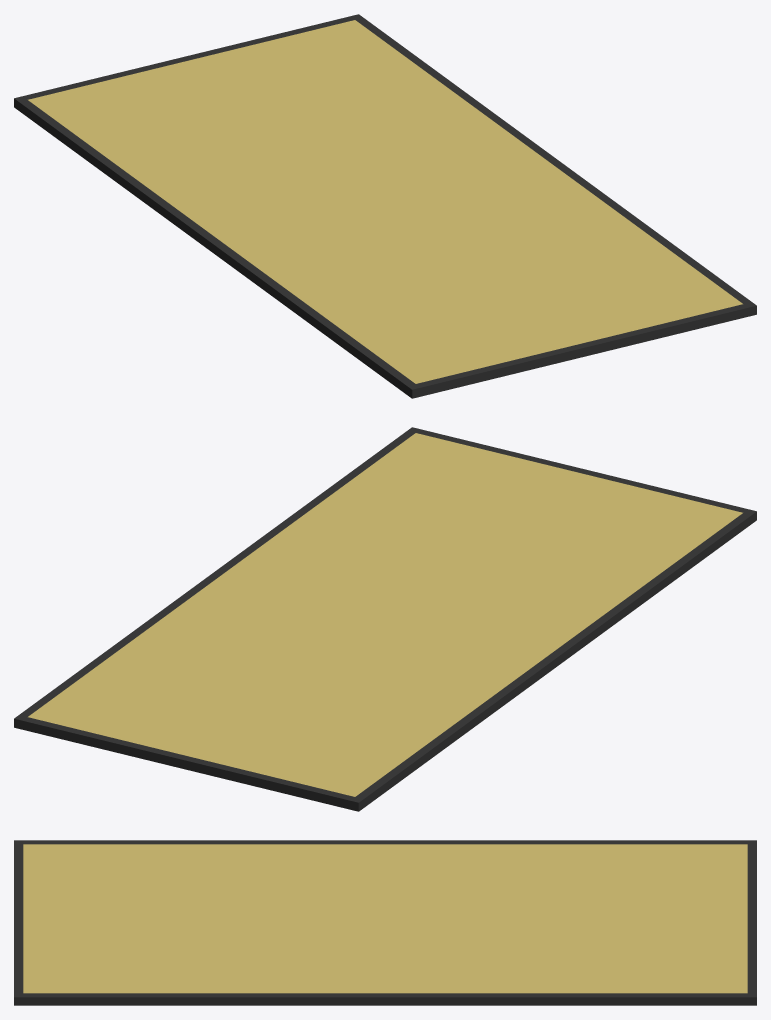
The model's file is dojo_floor_001.obj.
3 renders of one model, top to bottom at view 1: azimuth 30°, elevation 25°; view 2: azimuth 150°, elevation 25°; view 3: azimuth 270°, elevation 25°, orthographic. The views are drawn at different scales.
Size of the model in its own units: 4 by 0.1 by 8.
1 material, 1 textured.
